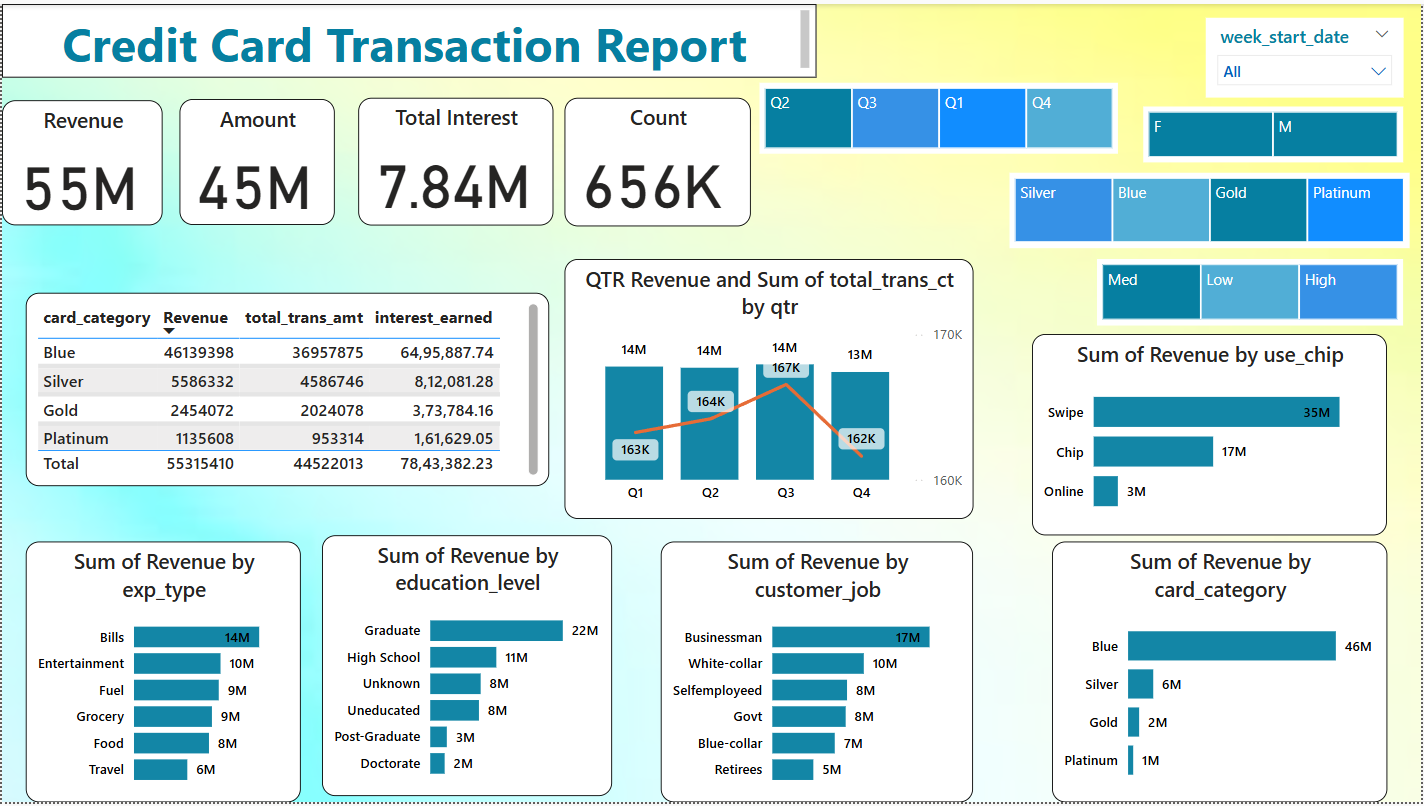

The dashboard page shown, as its layout file describes it:
{"tool":"powerbi","page":{"name":"cc_transaction","canvas":[1280,720],"ordinal":1},"visuals":[{"type":"textbox","box":[0,0,734.4,66.4],"z":0},{"type":"lineStackedColumnComboChart","title":"QTR Revenue and Sum of total_trans_ct by qtr","fields":{"Category":["public cc_detail.qtr"],"Y":["Sum(public cc_detail.Revenue)"],"Y2":["Sum(public cc_detail.total_trans_ct)"]},"box":[507.2,229.9,368.6,234.4],"z":1000},{"type":"barChart","fields":{"Y":["Sum(public cc_detail.Revenue)"],"Category":["public cc_detail.exp_type"]},"box":[21.4,484.7,248,235.6],"z":2000},{"type":"barChart","fields":{"Y":["Sum(public cc_detail.Revenue)"],"Category":["public cust_detail.education_level"]},"box":[288.5,479,261.5,235.6],"z":3000},{"type":"barChart","fields":{"Y":["Sum(public cc_detail.Revenue)"],"Category":["public cust_detail.customer_job"]},"box":[594,484.7,281.8,235.6],"z":4000},{"type":"barChart","fields":{"Y":["Sum(public cc_detail.Revenue)"],"Category":["public cc_detail.card_category"]},"box":[946.8,484.7,302.1,235.6],"z":5000},{"type":"barChart","fields":{"Y":["Sum(public cc_detail.Revenue)"],"Category":["public cc_detail.use_chip"]},"box":[928.7,297.6,320.1,181.5],"z":6000},{"type":"tableEx","fields":{"Values":["public cc_detail.card_category","Sum(public cc_detail.Revenue)","Sum(public cc_detail.total_trans_amt)","Sum(public cc_detail.interest_earned)"]},"box":[21.4,260.4,472.3,174.7],"z":7000},{"type":"cardVisual","title":"Revenue","fields":{"Data":["Sum(public cc_detail.Revenue)"]},"box":[0,86.6,145,113],"z":8000},{"type":"cardVisual","title":"Amount","fields":{"Data":["Sum(public cc_detail.total_trans_amt)"]},"box":[160.1,85.7,139.8,113.8],"z":9000},{"type":"cardVisual","title":"Total Interest","fields":{"Data":["Sum(public cc_detail.interest_earned)"]},"box":[321.2,84.5,175.8,115],"z":10000},{"type":"cardVisual","title":"Count","fields":{"Data":["Sum(public cc_detail.total_trans_ct)"]},"box":[507.2,84.5,167.9,116.1],"z":11000},{"type":"slicer","fields":{"Values":["public cc_detail.week_start_date"]},"box":[1085.4,12.4,178.1,72.1],"z":12000},{"type":"treemap","fields":{"Group":["public cc_detail.qtr"],"Values":["CountNonNull(public cc_detail.client_num)"]},"box":[683,71,323.5,64.2],"z":13000},{"type":"treemap","fields":{"Group":["public cust_detail.gender"],"Values":["Avg(public cc_detail.client_num)"]},"box":[1029.1,92.4,234.4,50.7],"z":14000},{"type":"treemap","fields":{"Group":["public cc_detail.card_category"],"Values":["Avg(public cc_detail.client_num)"]},"box":[908.5,152.2,360.7,67.6],"z":15000},{"type":"treemap","fields":{"Values":["Avg(public cc_detail.client_num)"],"Group":["public cust_detail.IncomeGroup"]},"box":[987.4,229.9,276.1,59.7],"z":16000}]}

Visuals, with their boxes in screenshot pixels (x1, y1, x2, y2), scaled from the page's 1280x720 canvas onto the 1424x806 screenshot:
textbox: bbox(0, 0, 817, 74)
"QTR Revenue and Sum of total_trans_ct by qtr" lineStackedColumnComboChart: bbox(564, 257, 974, 520)
barChart - Sum(public cc_detail.Revenue) x public cc_detail.exp_type: bbox(24, 543, 300, 805)
barChart - Sum(public cc_detail.Revenue) x public cust_detail.education_level: bbox(321, 536, 612, 800)
barChart - Sum(public cc_detail.Revenue) x public cust_detail.customer_job: bbox(661, 543, 974, 805)
barChart - Sum(public cc_detail.Revenue) x public cc_detail.card_category: bbox(1053, 543, 1389, 805)
barChart - Sum(public cc_detail.Revenue) x public cc_detail.use_chip: bbox(1033, 333, 1389, 536)
tableEx - public cc_detail.card_category x Sum(public cc_detail.Revenue): bbox(24, 292, 549, 487)
"Revenue" cardVisual: bbox(0, 97, 161, 223)
"Amount" cardVisual: bbox(178, 96, 334, 223)
"Total Interest" cardVisual: bbox(357, 95, 553, 223)
"Count" cardVisual: bbox(564, 95, 751, 225)
slicer - public cc_detail.week_start_date: bbox(1208, 14, 1406, 95)
treemap - public cc_detail.qtr x CountNonNull(public cc_detail.client_num): bbox(760, 79, 1120, 151)
treemap - public cust_detail.gender x Avg(public cc_detail.client_num): bbox(1145, 103, 1406, 160)
treemap - public cc_detail.card_category x Avg(public cc_detail.client_num): bbox(1011, 170, 1412, 246)
treemap - Avg(public cc_detail.client_num) x public cust_detail.IncomeGroup: bbox(1098, 257, 1406, 324)
